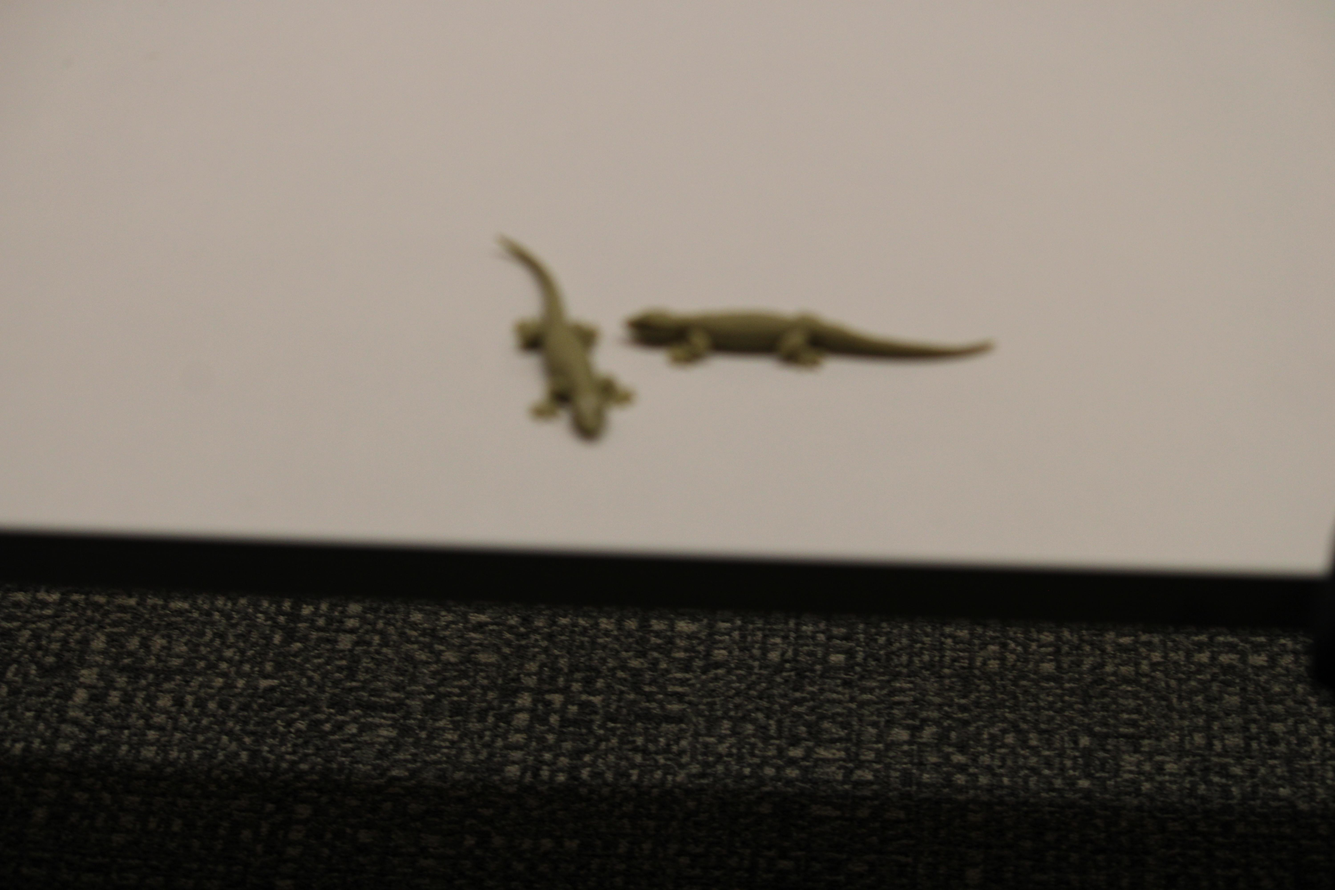lizard: (630, 281, 989, 388), (485, 223, 631, 447)
